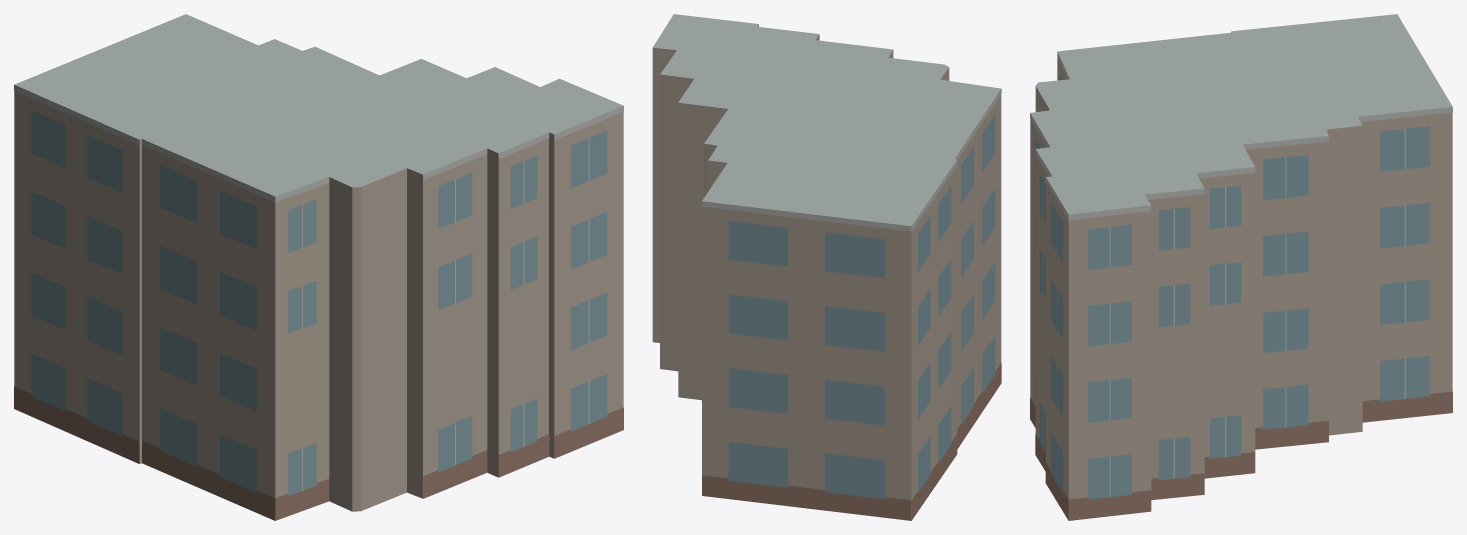
Rendered from survey-upis-32926395.glb.
The picture shows the model from 3 angles, left to right: view 1: azimuth 30°, elevation 25°; view 2: azimuth 150°, elevation 25°; view 3: azimuth 270°, elevation 25°; orthographic projection. The views are drawn at different scales.
Parts seen in each view (by area): view 1: survey-upis-32926395.tmp; view 2: survey-upis-32926395.tmp; view 3: survey-upis-32926395.tmp.
Boxes of the visible parts, x1=… form: survey-upis-32926395.tmp: x1=14, y1=14, x2=623, y2=520; survey-upis-32926395.tmp: x1=652, y1=14, x2=1001, y2=520; survey-upis-32926395.tmp: x1=1030, y1=14, x2=1452, y2=520.
Size of the model in its own units: 18.64 by 13.25 by 16.59.
